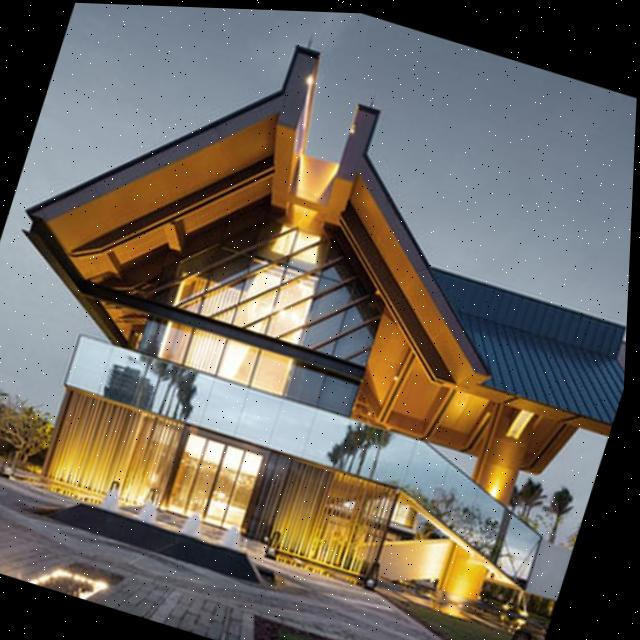building: (0, 0, 640, 633)
